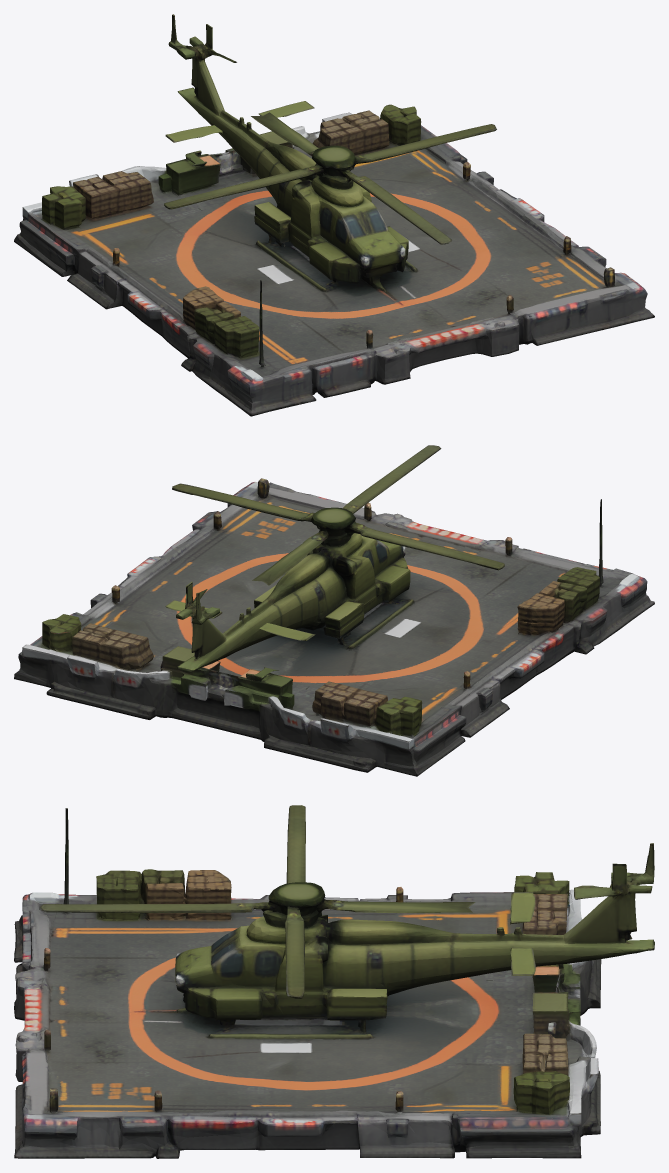
The model's file is helipad_def.glb.
3 renders of one model, top to bottom at view 1: azimuth 30°, elevation 25°; view 2: azimuth 150°, elevation 25°; view 3: azimuth 270°, elevation 25°, orthographic. The views are drawn at different scales.
Parts seen in each view (by area): view 1: world; view 2: world; view 3: world.
Boxes of the visible parts, x1,y1,x2,y2 form: world: (14, 14, 654, 416); world: (14, 445, 654, 776); world: (14, 805, 654, 1158).
Bounding box in the file's own units: 0.8712 × 0.3324 × 1.
Materials: 1 (1 with a texture image).
